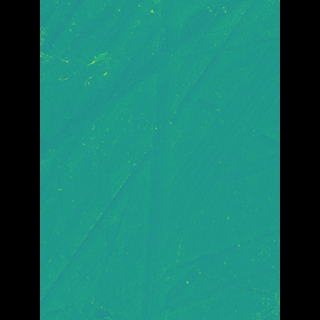Loch: (100, 34, 250, 320), (144, 0, 181, 320), (104, 39, 129, 80)
